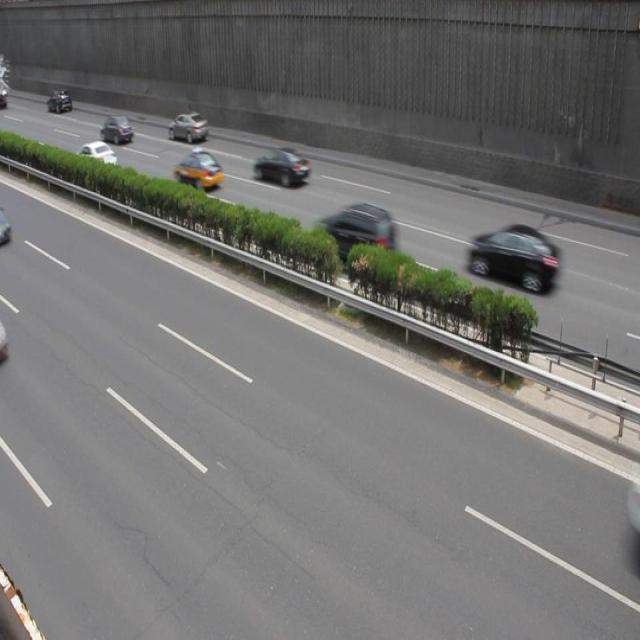car: (466, 222, 560, 295), (310, 203, 397, 278), (253, 147, 310, 188), (176, 149, 223, 192), (73, 139, 119, 177), (624, 482, 640, 574), (169, 114, 211, 144), (100, 114, 134, 147), (1, 205, 12, 248), (1, 322, 8, 357)
